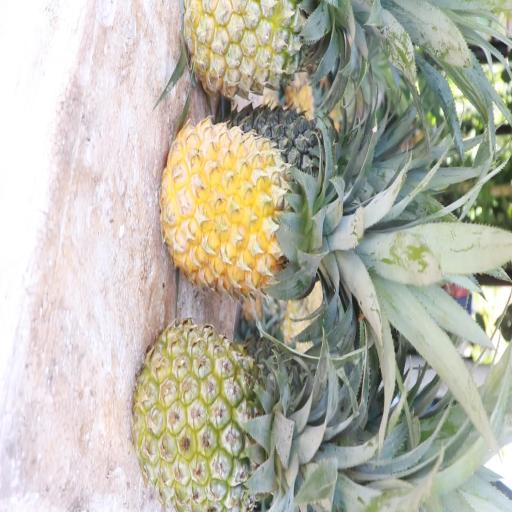------------------------------: (138, 326, 316, 512), (184, 0, 339, 96)
Pineapple - v8 v1: (161, 129, 340, 292)
